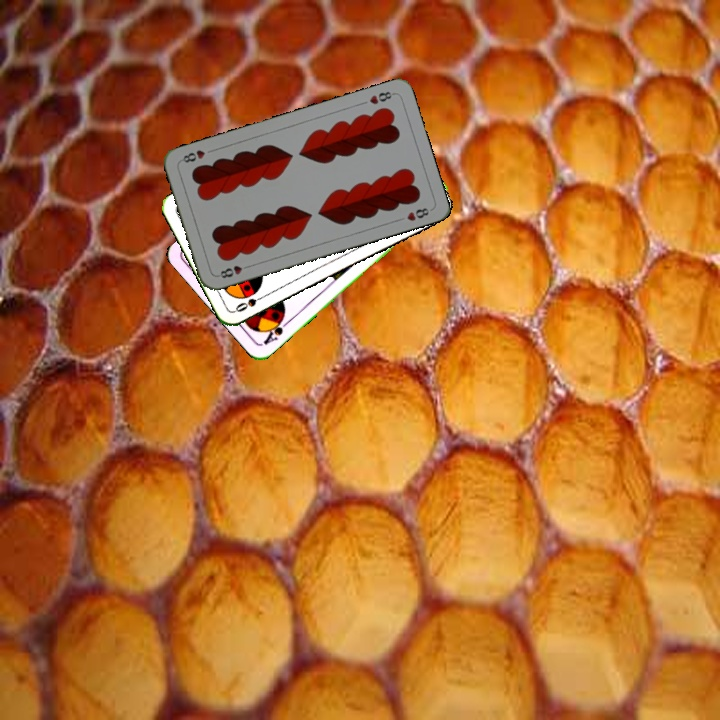H8: (214, 261, 253, 281), (365, 87, 397, 107)
SA: (259, 312, 292, 348)
SO: (231, 290, 269, 315)
